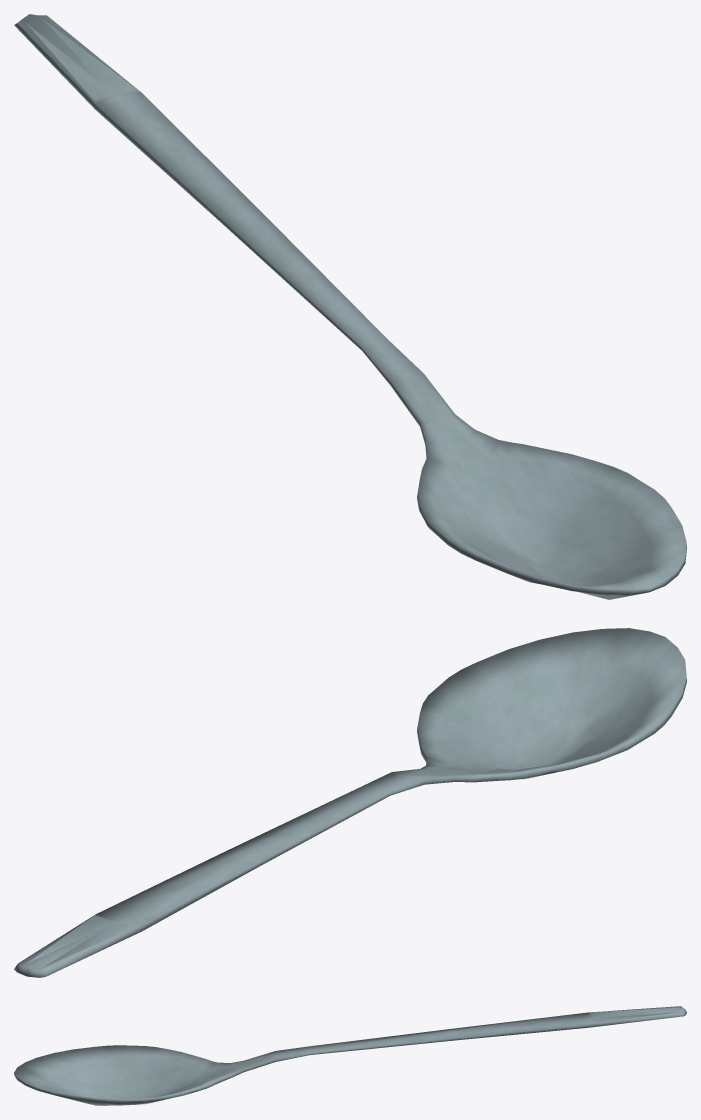
File: tablespoon__dessert_spoon__teaspoon.glb
The picture shows the model from 3 angles, top to bottom: view 1: azimuth 30°, elevation 25°; view 2: azimuth 150°, elevation 25°; view 3: azimuth 270°, elevation 25°; orthographic projection. The views are drawn at different scales.
Parts seen in each view (by area): view 1: defaultMaterial; view 2: defaultMaterial; view 3: defaultMaterial.
Part boxes in pixels (<box>): defaultMaterial: <box>14,14,686,599</box>; defaultMaterial: <box>14,628,686,977</box>; defaultMaterial: <box>14,1006,686,1105</box>.
Bounding box in the file's own units: 0.0551 × 0.0458 × 0.2886.
1 material, 1 textured.
